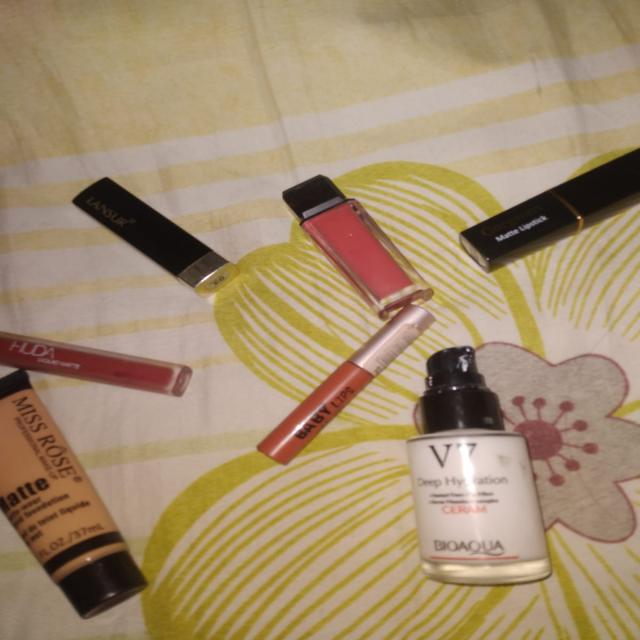foundation: (0, 375, 140, 620), (416, 356, 556, 592)
lip gloss: (242, 302, 460, 478)
lip liner: (91, 186, 236, 291)
lip stick: (248, 179, 442, 317), (460, 146, 640, 286), (1, 319, 208, 401)
